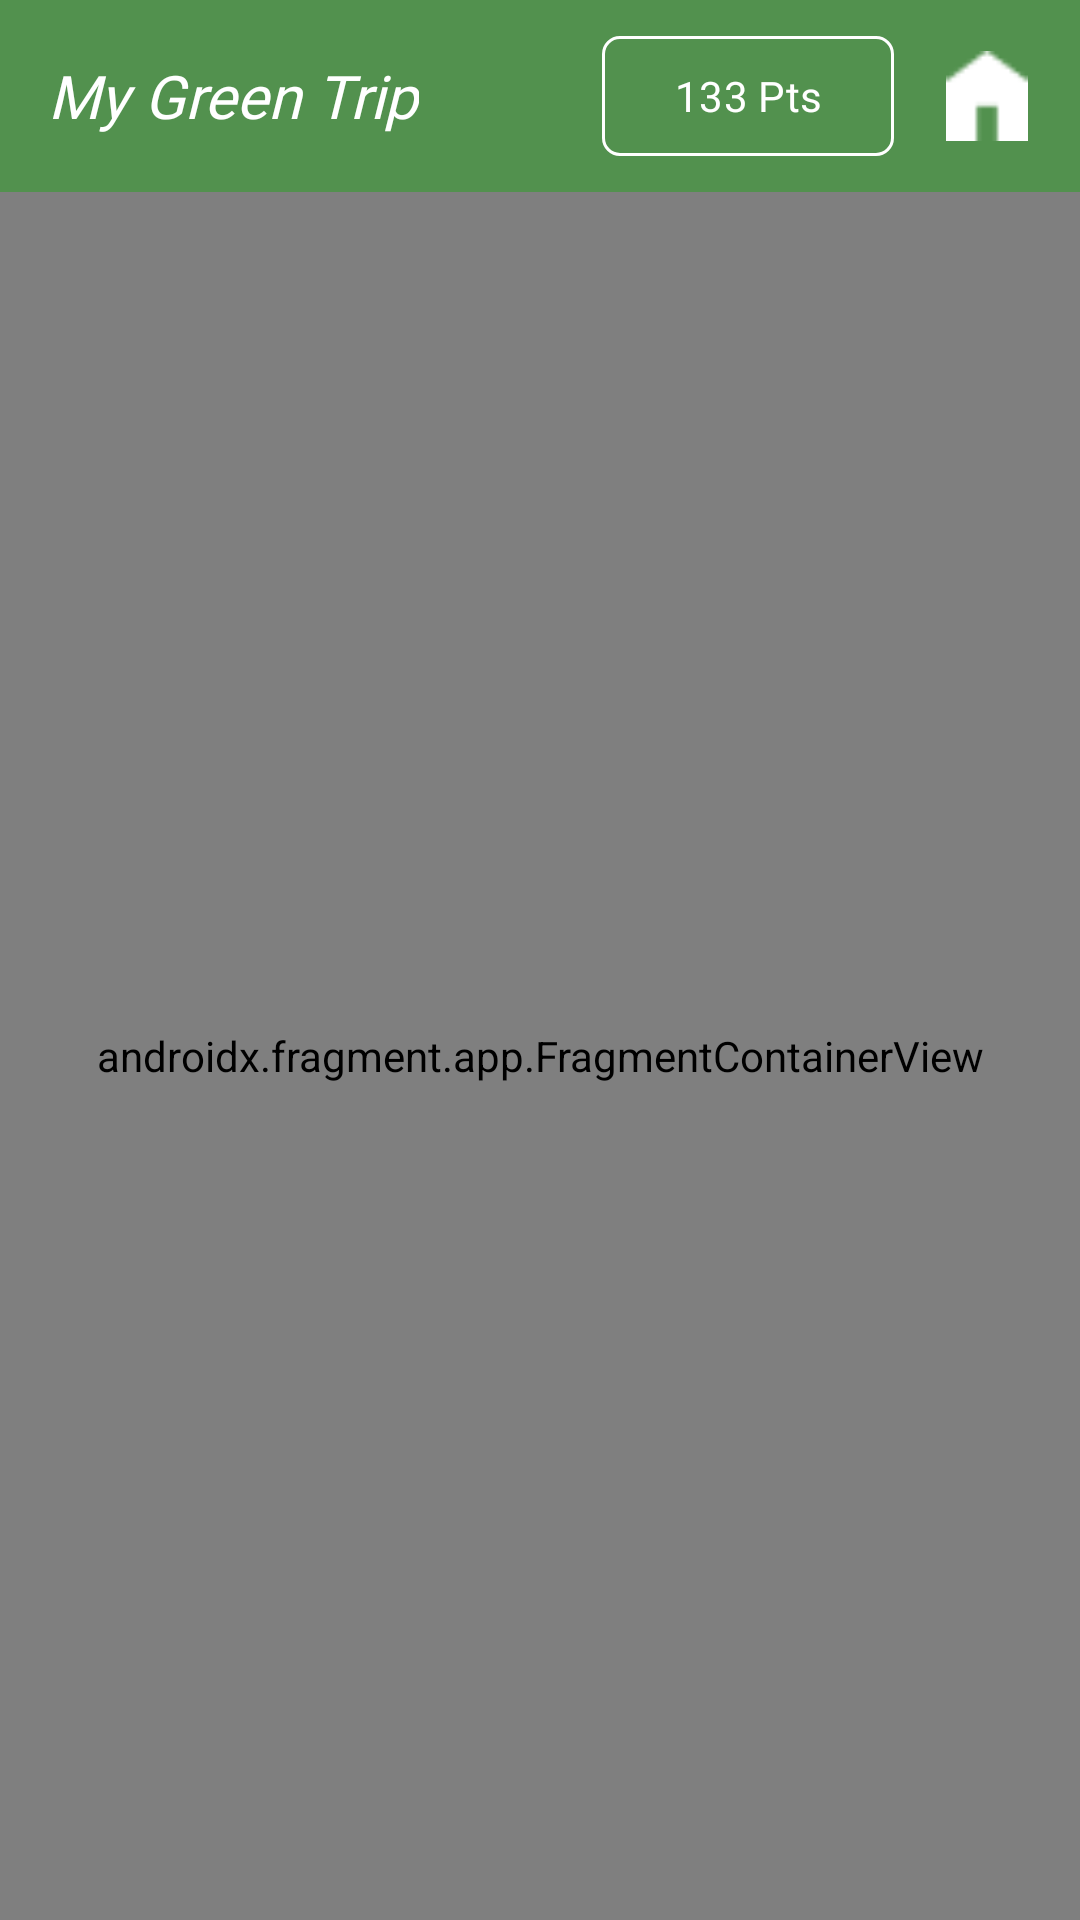

Icons on this 1080px×1920px Android screen, each with the point to tap as (x,y):
home: (987,96)
